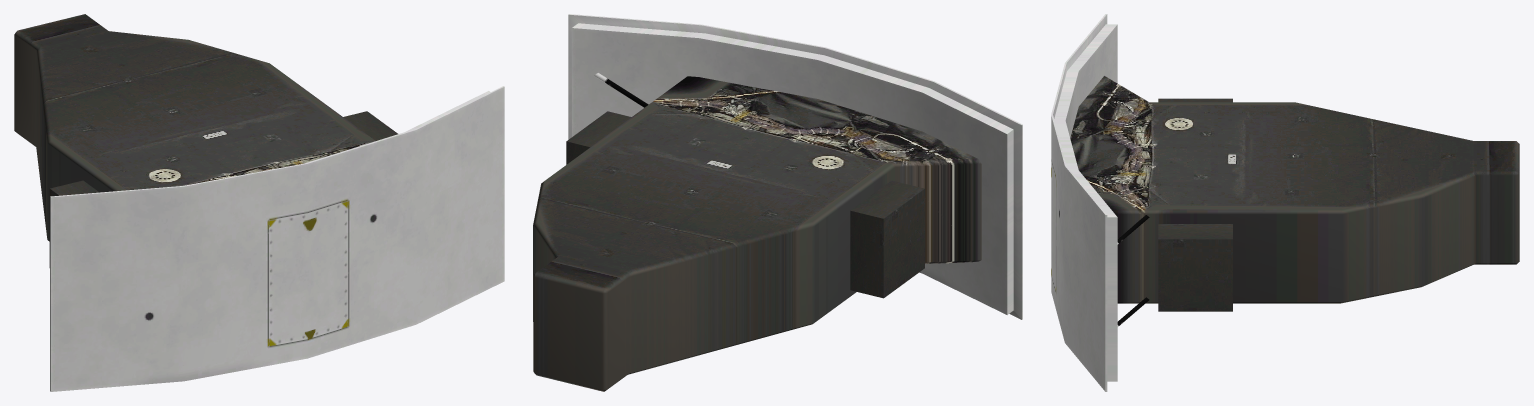
File: Wide Field Planetary Camera.fbx
3 renders of one model, left to right at view 1: azimuth 30°, elevation 25°; view 2: azimuth 150°, elevation 25°; view 3: azimuth 270°, elevation 25°, orthographic. The views are drawn at different scales.
Visible parts, largest first — view 1: node_3ae6890b_5e25_4150_9a3d_82a2b9cb47b0_mesh0; view 2: node_3ae6890b_5e25_4150_9a3d_82a2b9cb47b0_mesh0; view 3: node_3ae6890b_5e25_4150_9a3d_82a2b9cb47b0_mesh0.
Part boxes in pixels (x1,y1,x2,y2): node_3ae6890b_5e25_4150_9a3d_82a2b9cb47b0_mesh0: (14, 14, 504, 391); node_3ae6890b_5e25_4150_9a3d_82a2b9cb47b0_mesh0: (533, 14, 1022, 391); node_3ae6890b_5e25_4150_9a3d_82a2b9cb47b0_mesh0: (1051, 14, 1519, 391).
Bounding box in the file's own units: 7213 × 2960 × 7105.
1 material, 1 textured.
